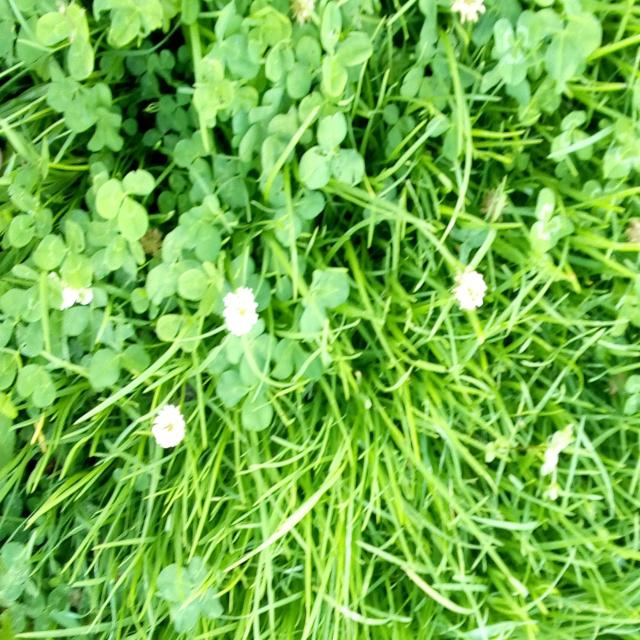Four Leaf Clover: (225, 316, 279, 386)
